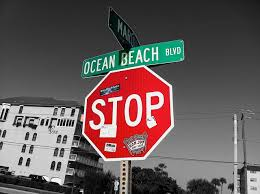SS: (82, 67, 174, 164)
